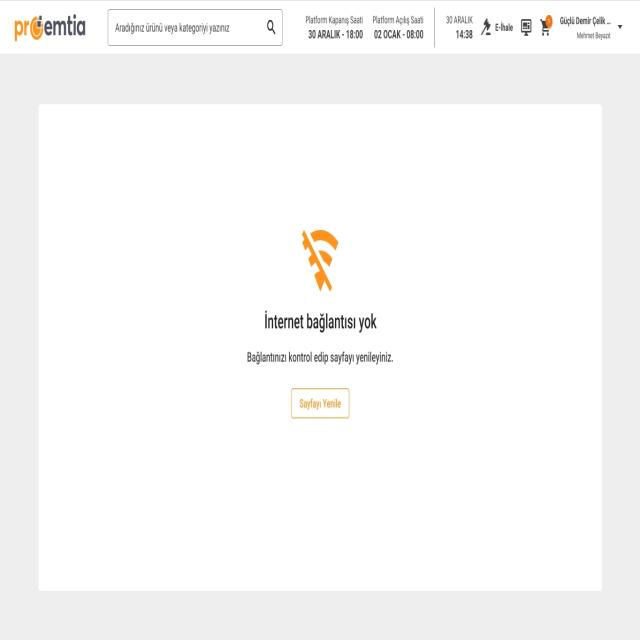QLabel: (242, 347, 398, 370), (259, 308, 378, 336), (303, 11, 364, 27), (298, 394, 342, 413), (559, 14, 613, 29), (371, 14, 426, 27), (306, 28, 364, 40), (372, 28, 425, 40), (574, 31, 612, 41), (445, 14, 475, 26), (494, 20, 515, 35), (455, 28, 474, 40)
VAppBar: (0, 0, 640, 55)
VBadge: (538, 10, 554, 40)
VBtn: (291, 387, 350, 420)
VCard: (39, 104, 602, 594)
VDivider: (432, 4, 437, 49)
VIcon: (520, 16, 532, 38), (480, 17, 492, 37), (616, 24, 624, 34)
VImg: (292, 219, 344, 300), (13, 8, 89, 48)
VTextField: (107, 9, 283, 46)
